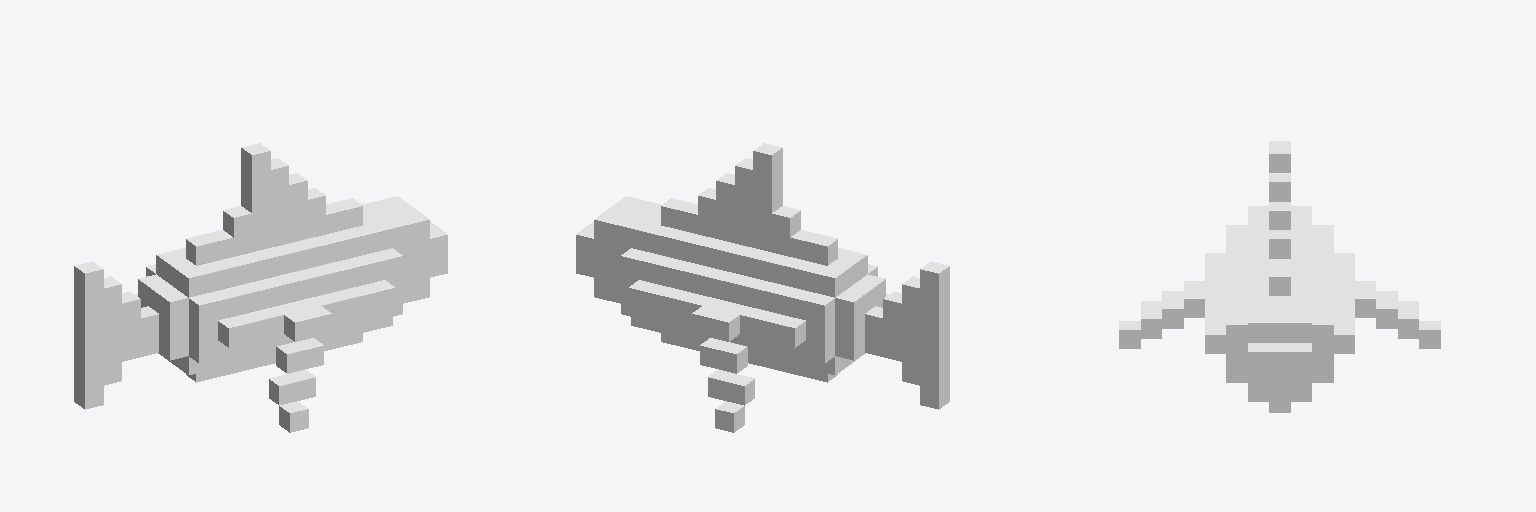
The model's file is tibu1.obj.
3 views of the same model, side by side, from view 1: azimuth 30°, elevation 25°; view 2: azimuth 150°, elevation 25°; view 3: azimuth 270°, elevation 25° (orthographic).
Parts seen in each view (by area): view 1: object 1; view 2: object 1; view 3: object 1.
Boxes of the visible parts, x1,y1,x2,y2 form: object 1: [74, 143, 447, 432]; object 1: [576, 143, 949, 432]; object 1: [1119, 141, 1440, 412].
Size of the model in its own units: 1.9 by 1.1 by 1.5.